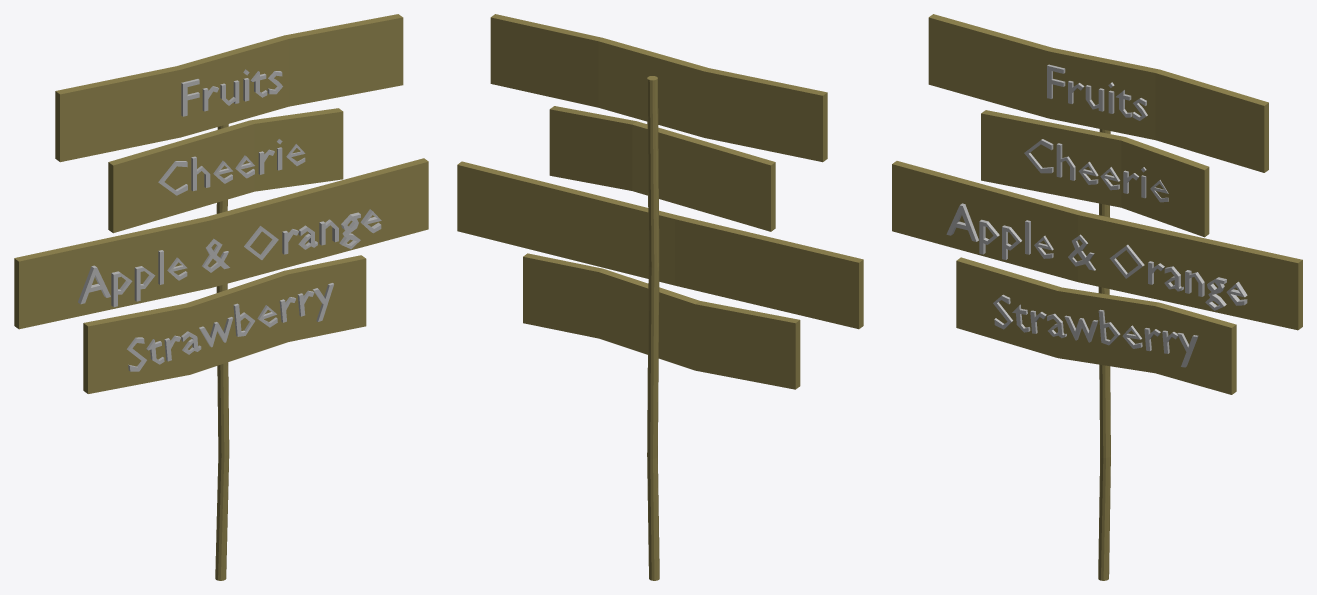
The model's file is signboard03.fbx.
3 renders of one model, left to right at view 1: azimuth 30°, elevation 25°; view 2: azimuth 150°, elevation 25°; view 3: azimuth 330°, elevation 25°, orthographic.
Parts seen in each view (by area): view 1: Text.007; view 2: Text.007; view 3: Text.007.
Boxes of the visible parts, bbox=[...] form: Text.007: bbox=[14, 14, 428, 580]; Text.007: bbox=[457, 14, 863, 580]; Text.007: bbox=[892, 14, 1302, 580].
Size of the model in its own units: 1.52 by 1.88 by 0.084.
